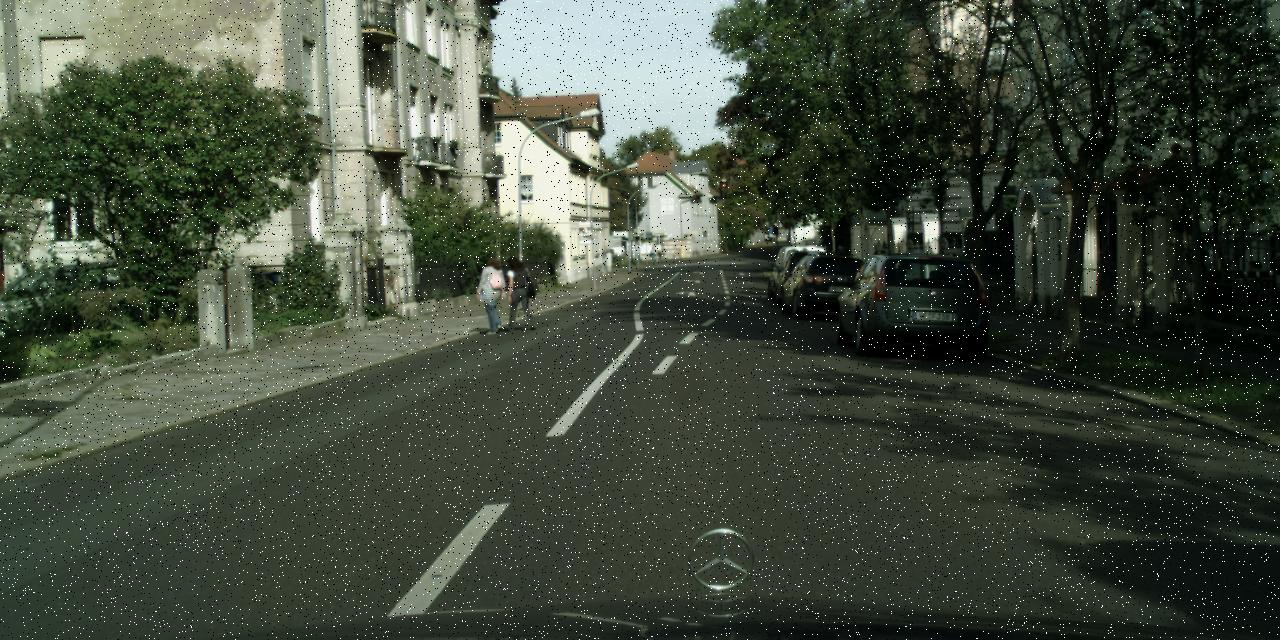ped: (478, 255, 509, 332), (501, 256, 531, 330), (649, 246, 656, 263)
